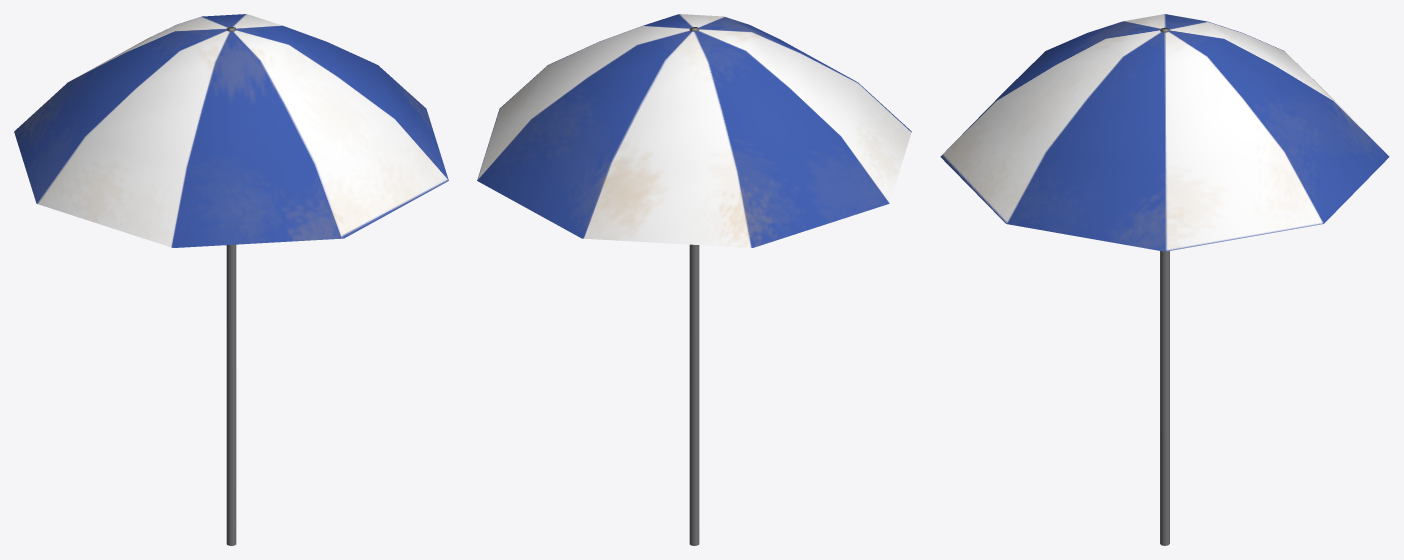
The model's file is Parasol.fbx.
3 views of the same model, side by side, from view 1: azimuth 30°, elevation 25°; view 2: azimuth 150°, elevation 25°; view 3: azimuth 270°, elevation 25° (orthographic).
Parts seen in each view (by area): view 1: Parasol; view 2: Parasol; view 3: Parasol.
Part boxes in pixels (bbox=[...]): Parasol: bbox=[14, 14, 448, 545]; Parasol: bbox=[477, 14, 911, 545]; Parasol: bbox=[940, 14, 1389, 545].
Bounding box in the file's own units: 187 × 235 × 187.
